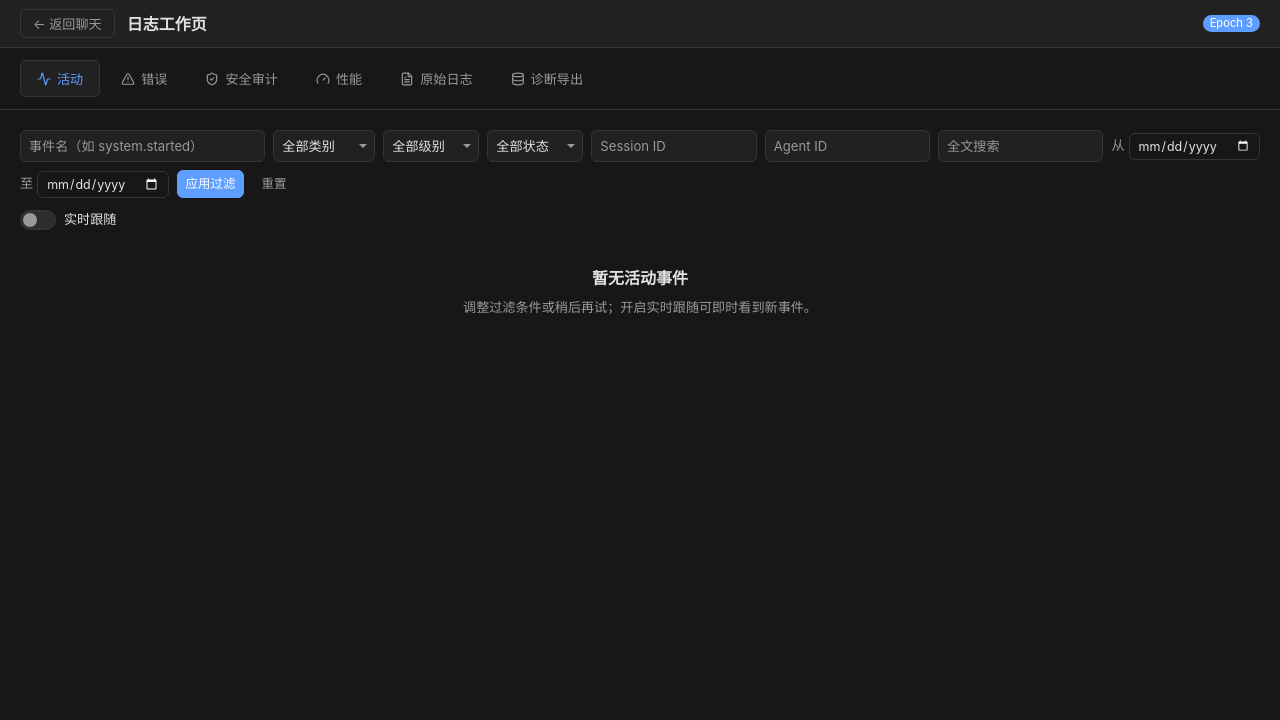
Test: LogsPage 诊断导出 tab › 生成导出在端点未实现时显示 T9 pending 状态
The width and height of the screenshot is (1280, 720).
Expected: the heading "暂无活动事件" is shown, [592, 266, 688, 290]
Click the tab with test id "logs-tab-export".
click(547, 78)  # box [494, 60, 600, 97]
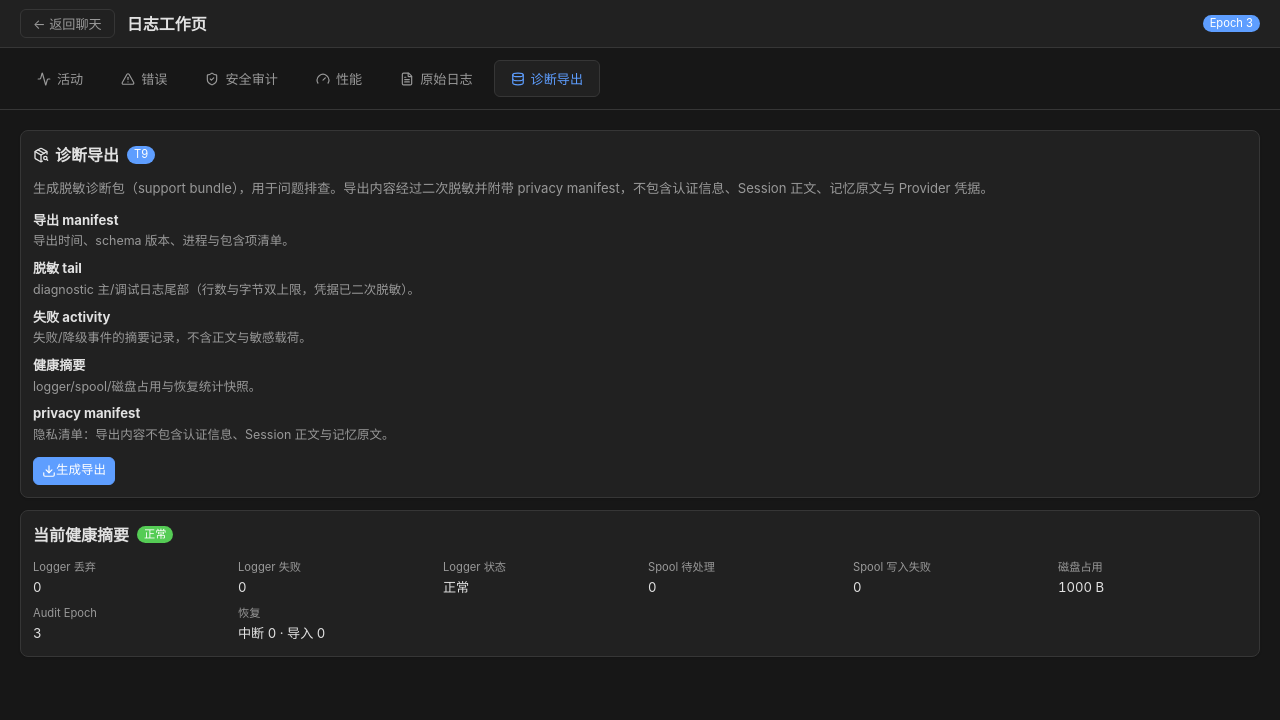
Now the button "生成导出" is shown
Click the button "生成导出".
click(74, 471)  # box [33, 457, 115, 485]
(page scrolled)
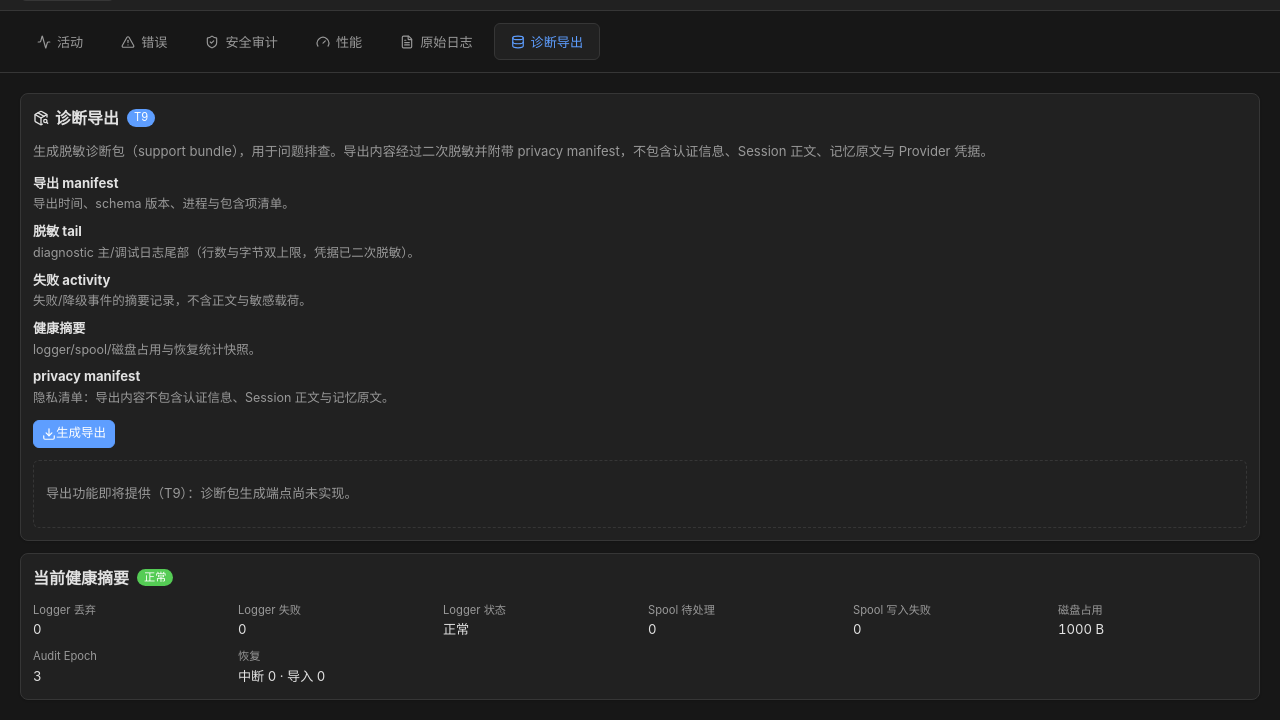
Now the element with test id "health-summary-card" is shown, box [20, 553, 1260, 700]
Now the text "导出功能即将提供（T9）：诊断包生成端点尚未实现。" is shown, box [46, 485, 358, 501]
